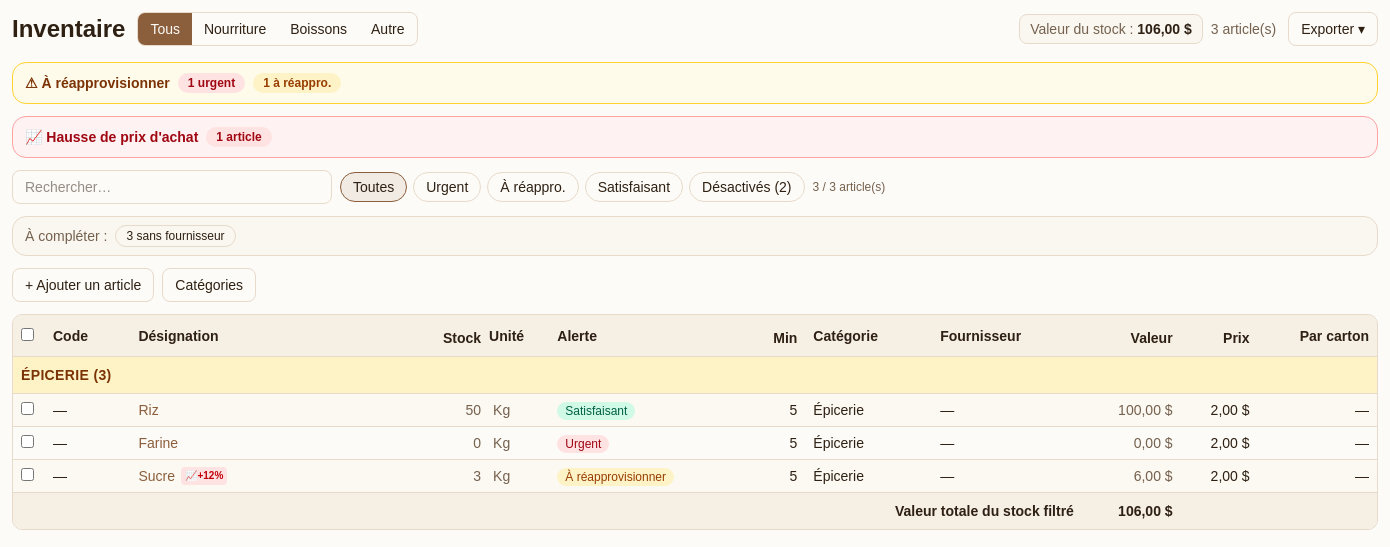
Test: la pastille « Désactivés » : filtre, badge, réactivation › dans la vue « Désactivés », les filtres d'alerte et d'à compléter (qui parlent des actifs) ne sont pas proposés
Click the button "Désactivés (2)": [747, 187] box [689,172,804,202]
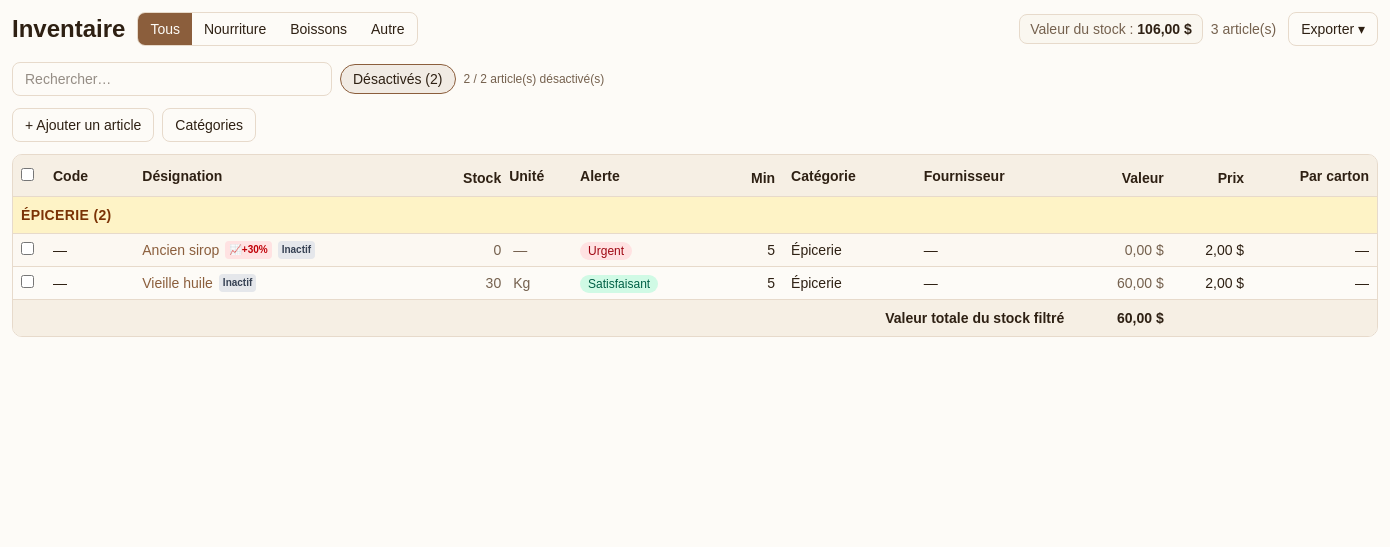
Check: the text "À réapprovisionner" is gone
Check: the text "Hausse de prix d'achat" is gone
